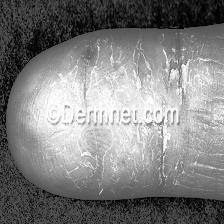Non-Cancerous Skin Condition: (50, 52, 207, 162)
